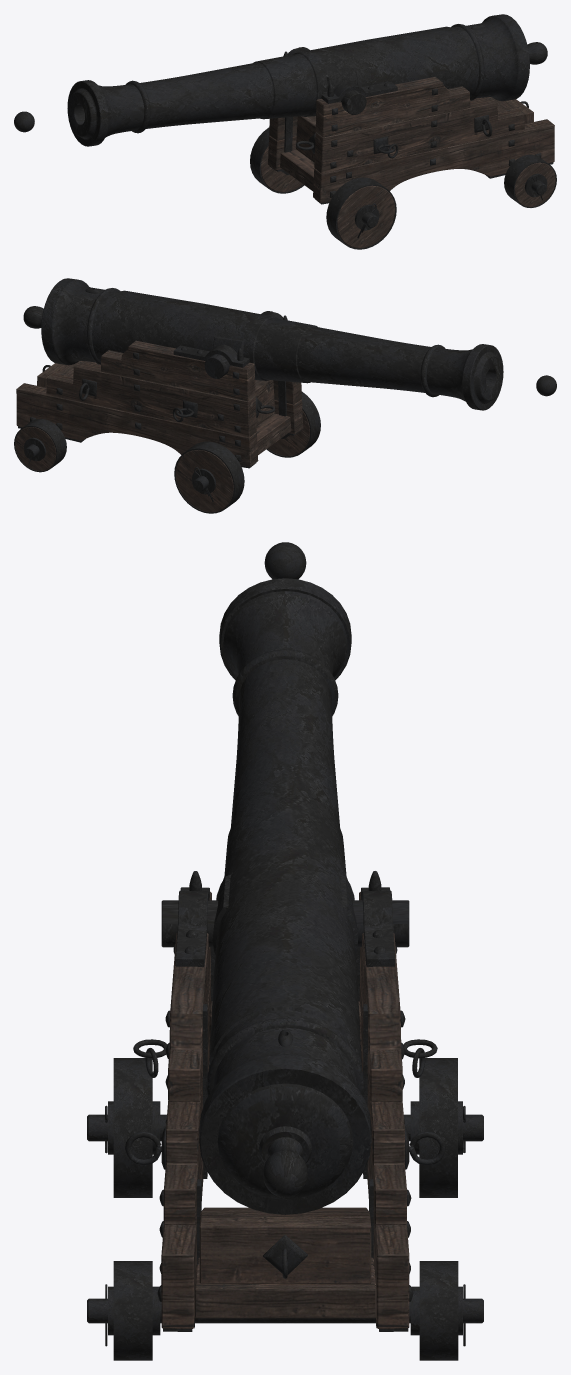
File: Cannon_01_003.fbx
3 renders of one model, top to bottom at view 1: azimuth 30°, elevation 25°; view 2: azimuth 150°, elevation 25°; view 3: azimuth 270°, elevation 25°, orthographic. The views are drawn at different scales.
Visible parts, largest first — view 1: Cannon_Base, Cannon_Tube, Cannon_Ball; view 2: Cannon_Base, Cannon_Tube, Cannon_Ball; view 3: Cannon_Tube, Cannon_Base, Cannon_Ball.
Boxes of the visible parts, bbox=[...] form: Cannon_Base: bbox=[250, 47, 556, 249]; Cannon_Tube: bbox=[67, 14, 547, 146]; Cannon_Ball: bbox=[14, 111, 34, 132]; Cannon_Base: bbox=[14, 311, 320, 513]; Cannon_Tube: bbox=[23, 278, 503, 410]; Cannon_Ball: bbox=[536, 375, 556, 396]; Cannon_Tube: bbox=[161, 578, 409, 1214]; Cannon_Base: bbox=[87, 871, 483, 1360]; Cannon_Ball: bbox=[264, 542, 306, 579].
Bounding box in the file's own units: 189 × 65.15 × 61.2.
2 materials, 2 textured.
